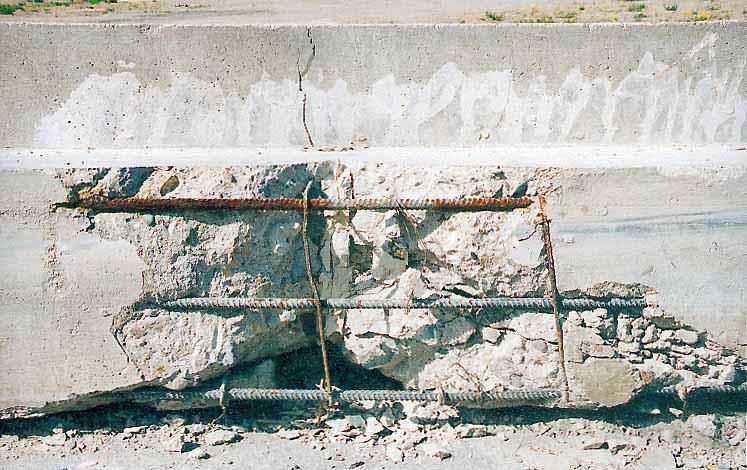Crack: (296, 25, 317, 146)
Exposed reinforcement: (300, 178, 333, 408), (94, 388, 563, 404), (152, 297, 648, 312), (75, 197, 534, 213), (538, 192, 571, 402), (640, 385, 747, 396)
Spalling: (49, 166, 747, 418)
